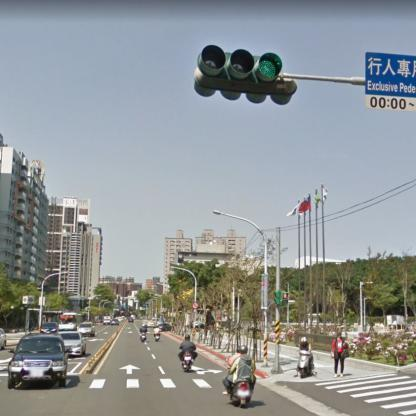Green Light: (200, 41, 284, 88)
